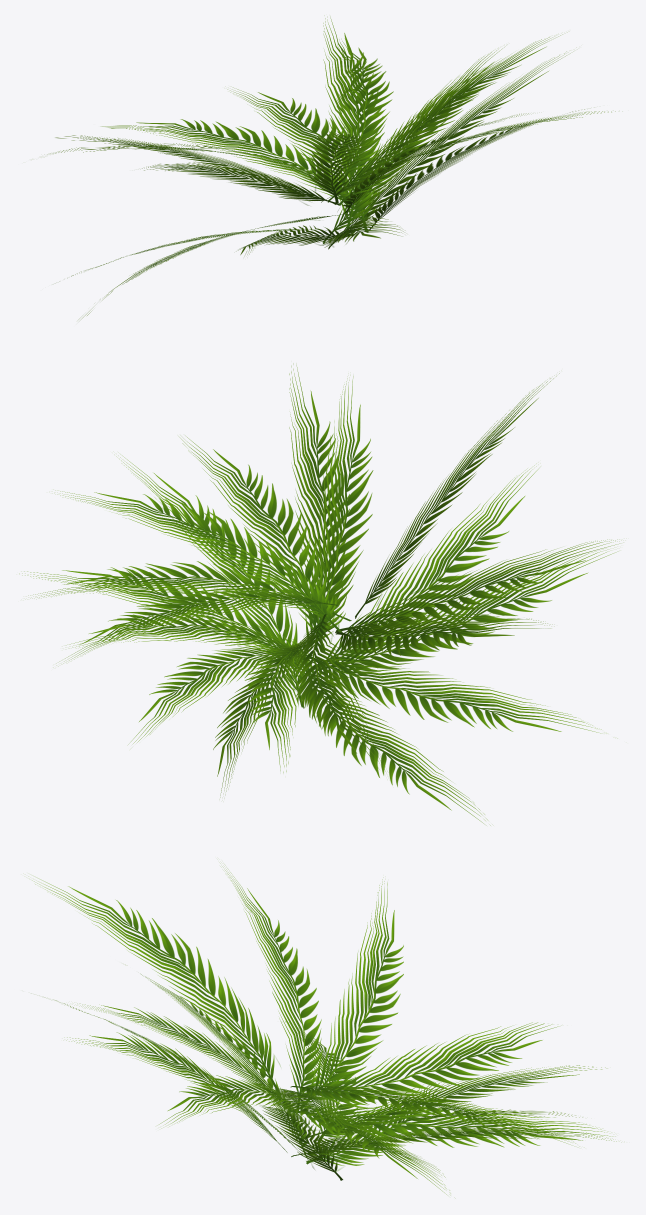
The model's file is plane.007_lev3.glb.
The picture shows the model from 3 angles, top to bottom: view 1: azimuth 30°, elevation 25°; view 2: azimuth 150°, elevation 25°; view 3: azimuth 270°, elevation 25°; orthographic projection. The views are drawn at different scales.
Visible parts, largest first — view 1: plane.007_lev3; view 2: plane.007_lev3; view 3: plane.007_lev3.
Boxes of the visible parts, x1,y1,x2,y2 form: plane.007_lev3: (47, 16, 615, 318); plane.007_lev3: (19, 363, 620, 825); plane.007_lev3: (32, 866, 616, 1194).
Size of the model in its own units: 2.07 by 0.9787 by 1.97.
1 material, 1 textured.
